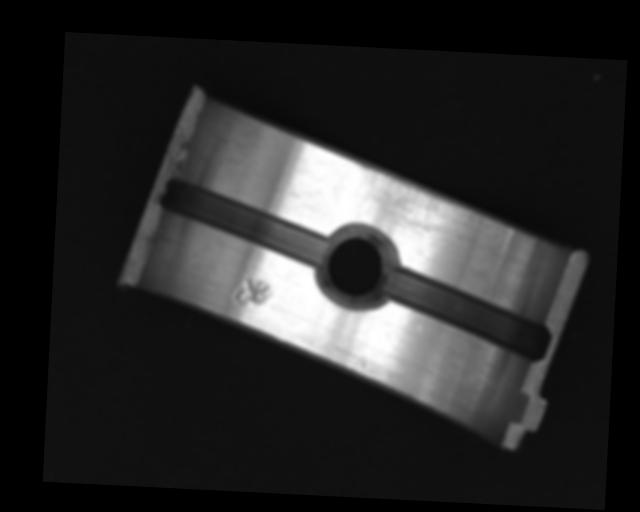bruise: (230, 273, 274, 308)
gap: (376, 266, 554, 362), (156, 179, 328, 266)
hole: (313, 223, 399, 310)
scratch: (343, 158, 497, 234)
